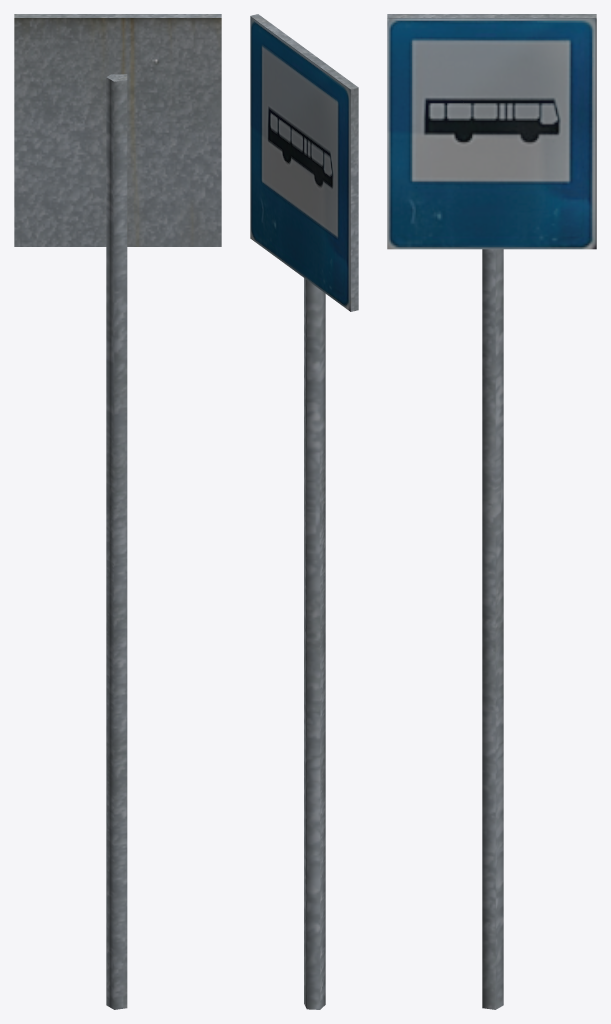
The model's file is bus_stop_sign.glb.
The picture shows the model from 3 angles, left to right: view 1: azimuth 90°, elevation 25°; view 2: azimuth 210°, elevation 25°; view 3: azimuth 270°, elevation 25°; orthographic projection. The views are drawn at different scales.
Visible parts, largest first — view 1: Bus_stop_sign; view 2: Bus_stop_sign; view 3: Bus_stop_sign.
Part boxes in pixels (bbox=[...]): Bus_stop_sign: bbox=[14, 14, 221, 1009]; Bus_stop_sign: bbox=[250, 14, 358, 1009]; Bus_stop_sign: bbox=[387, 14, 596, 1009].
Bounding box in the file's own units: 0.0697 × 2.73 × 0.521.
1 material, 1 textured.
